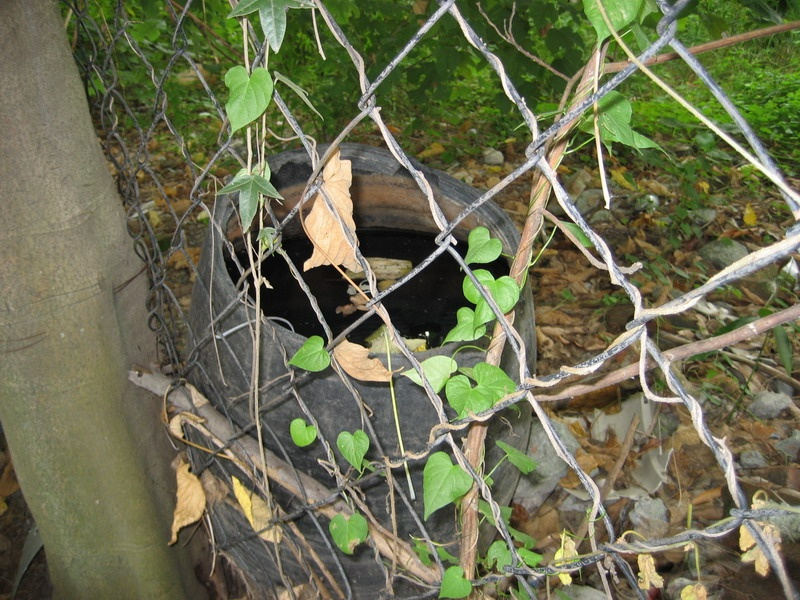bucket: (186, 137, 539, 586)
